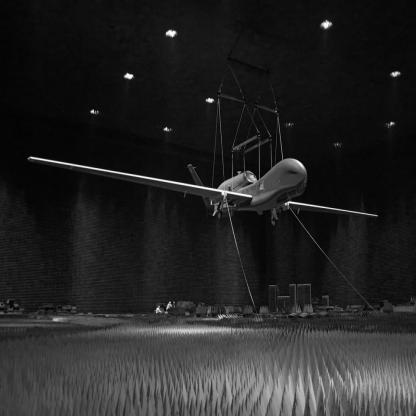RQ4: (28, 157, 380, 228)
